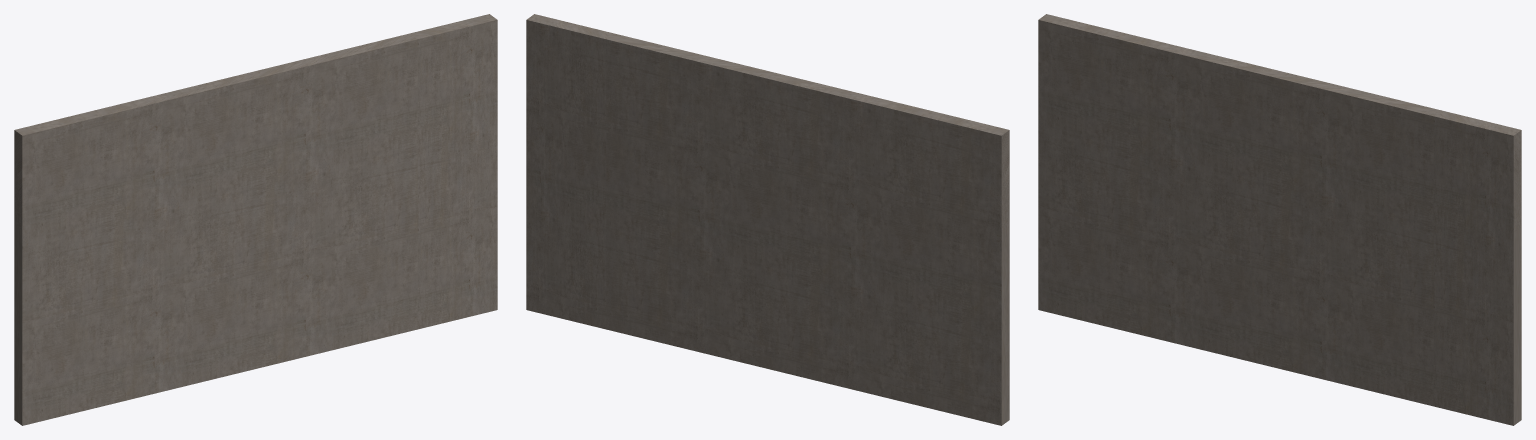
File: wall14_5.obj
3 renders of one model, left to right at view 1: azimuth 30°, elevation 25°; view 2: azimuth 150°, elevation 25°; view 3: azimuth 330°, elevation 25°, orthographic.
Parts seen in each view (by area): view 1: wall.014_5; view 2: wall.014_5; view 3: wall.014_5.
Boxes of the visible parts, bbox=[...] form: wall.014_5: bbox=[14, 14, 497, 425]; wall.014_5: bbox=[526, 14, 1009, 425]; wall.014_5: bbox=[1038, 14, 1521, 425].
Size of the model in its own units: 1.71 by 1 by 0.05.
